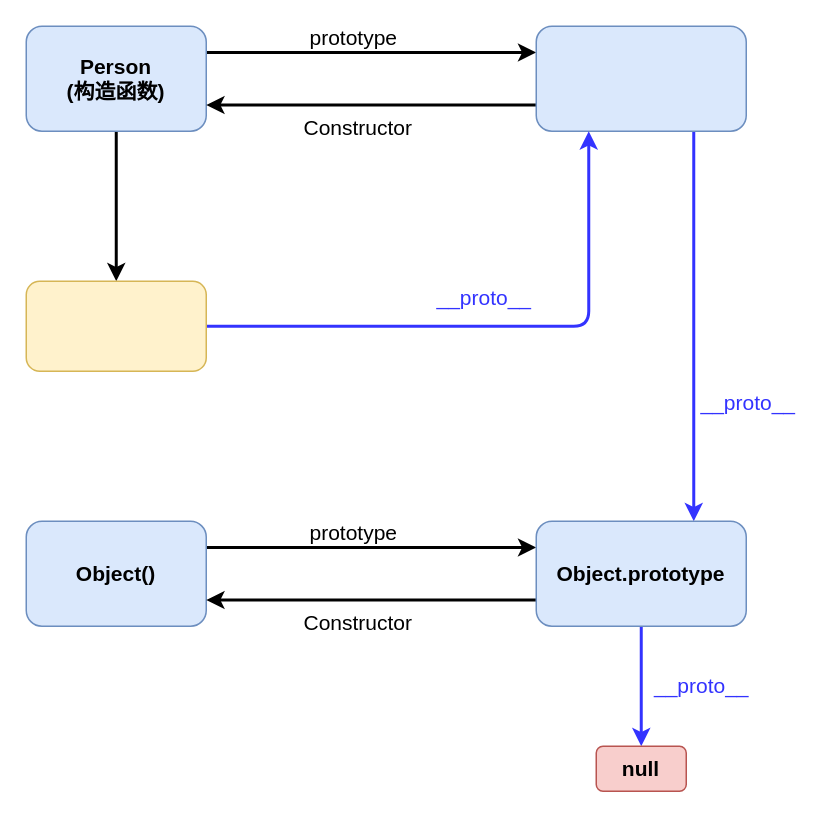
Some shapes in this 821 by 818 pixel diagram are drawn without their labels. Here are the shapes that lost their labels. From the top down, the centre of each, then its label:
At (x=640, y=78): "Person.prototype (实例原型)".
At (x=115, y=325): "person （对象实例）".
